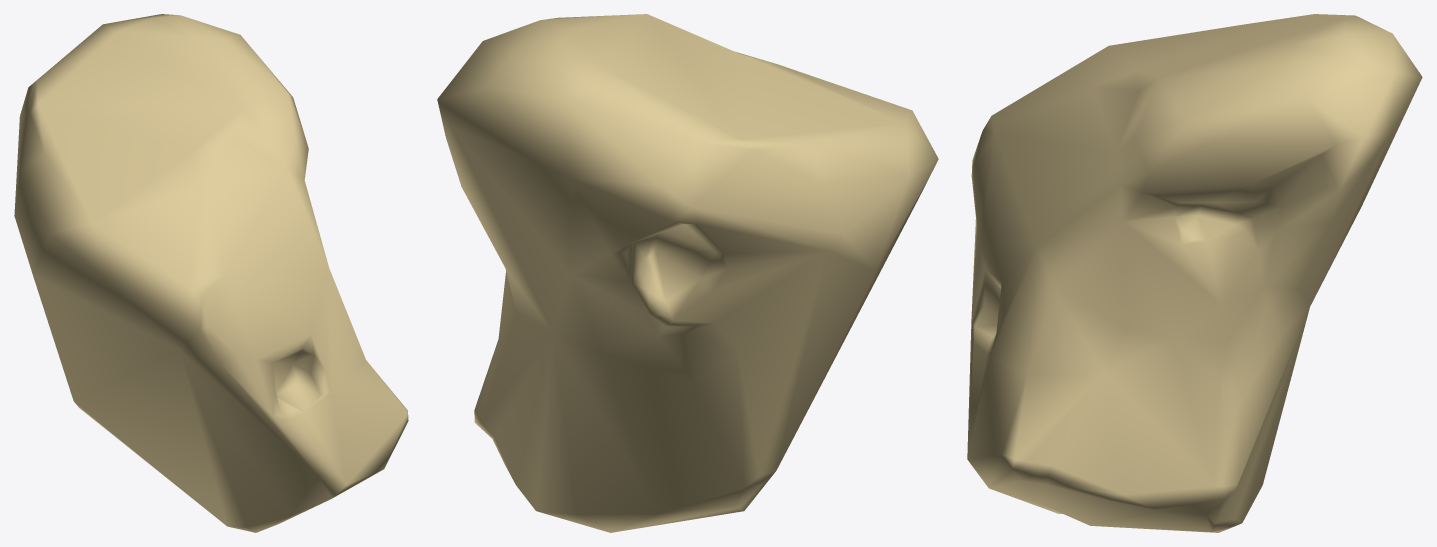
The picture shows the model from 3 angles, left to right: view 1: azimuth 30°, elevation 25°; view 2: azimuth 150°, elevation 25°; view 3: azimuth 270°, elevation 25°; orthographic projection. The views are drawn at different scales.
Visible parts, largest first — view 1: 右侧小多角骨; view 2: 右侧小多角骨; view 3: 右侧小多角骨.
Part boxes in pixels (left/top/right/bottom): 右侧小多角骨: left=14, top=14, right=408, bottom=532; 右侧小多角骨: left=437, top=14, right=938, bottom=532; 右侧小多角骨: left=967, top=14, right=1422, bottom=532.
Bounding box in the file's own units: 0.0173 × 0.0229 × 0.0194.
